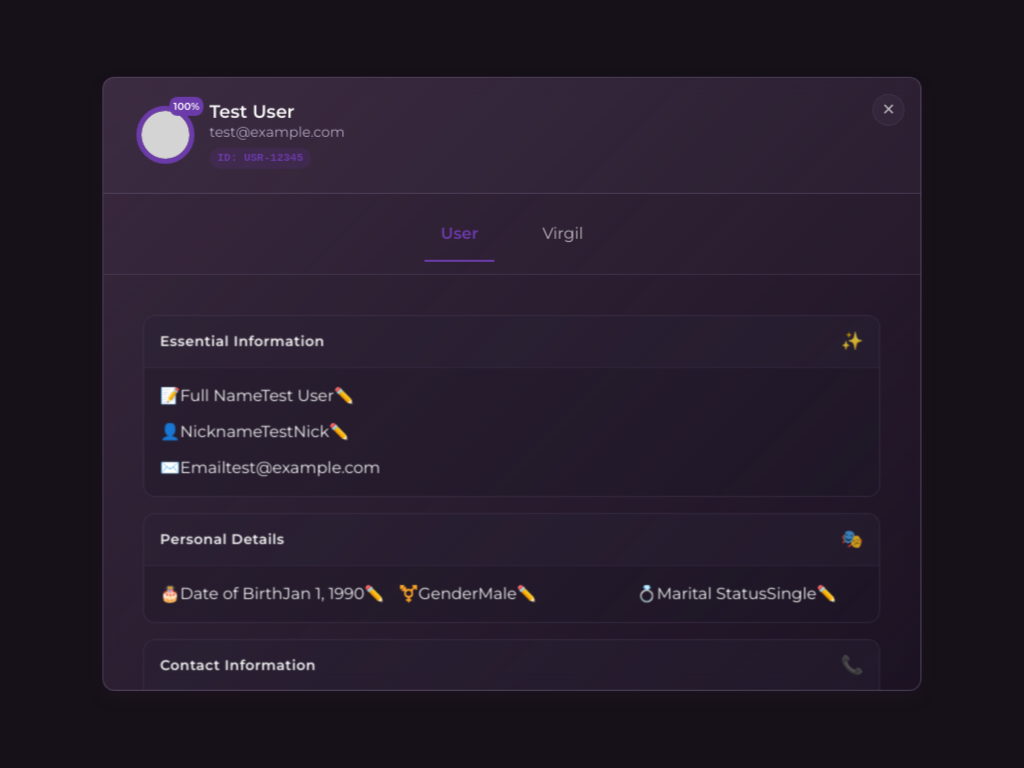
UserProfileViewer › virgil tab content › should render device information section
Click the tab "Virgil" at (563, 234), box [526, 214, 599, 254]
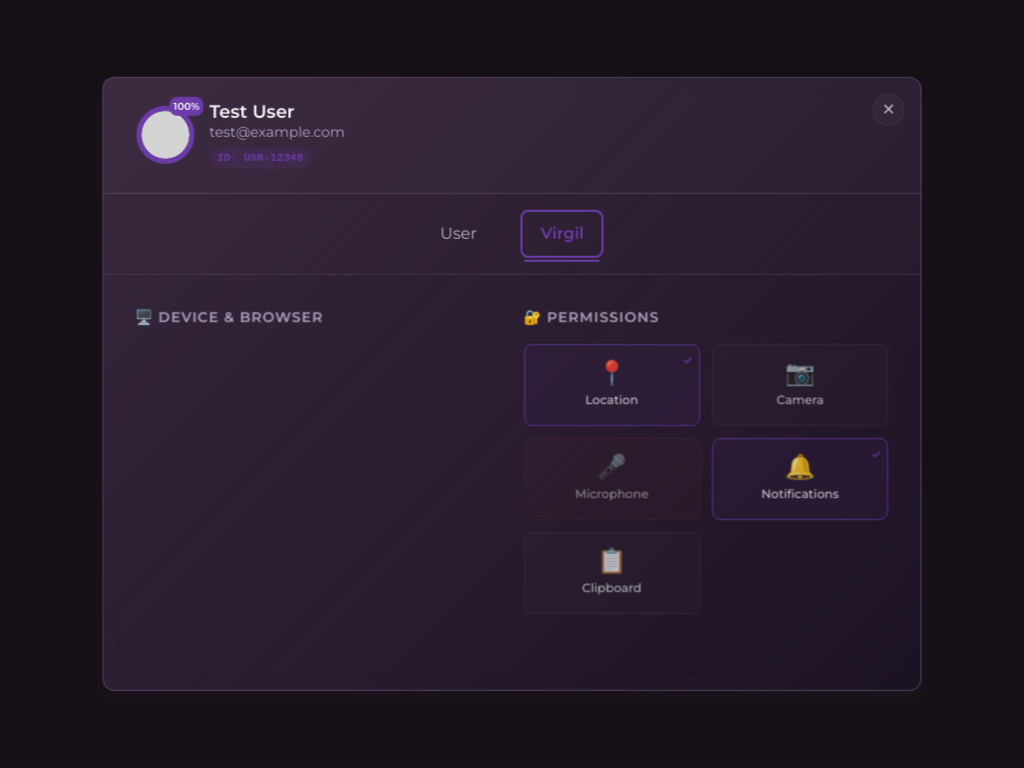
Check: the heading "🖥️ Device & Browser" is shown, box [135, 308, 324, 326]
